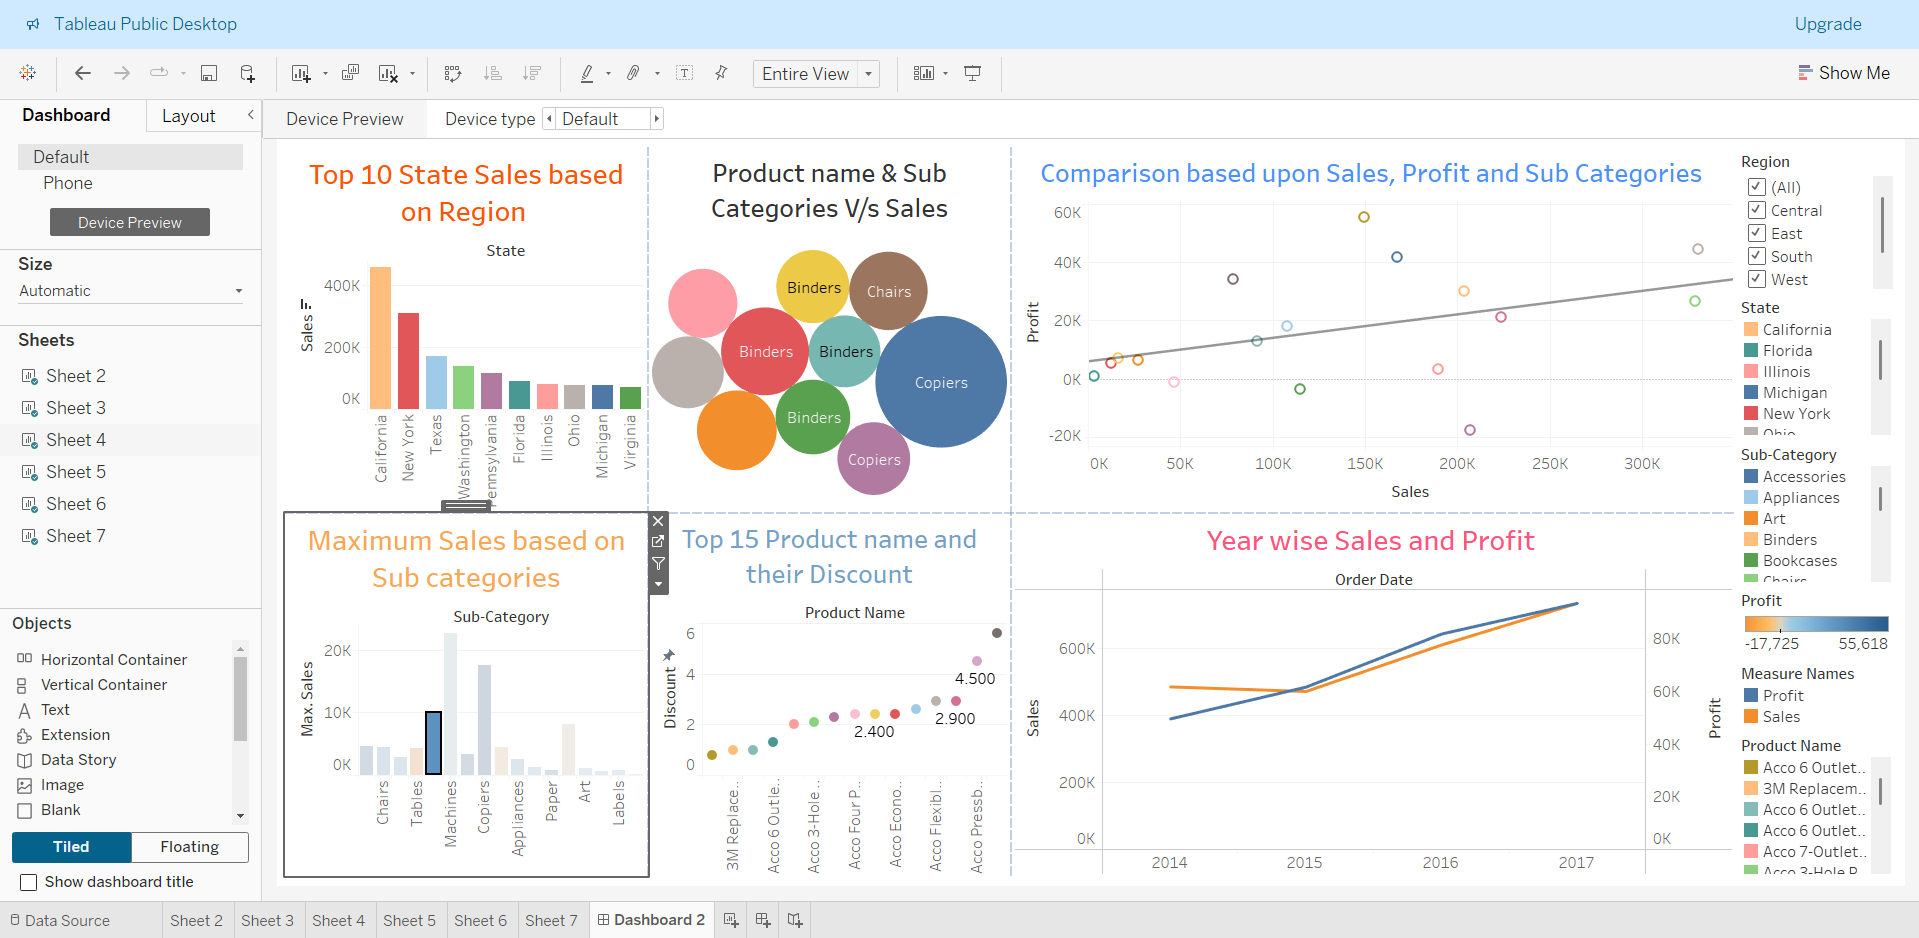

The page's visual inventory and layout, read from the dashboard file:
{"tool":"tableau","page":{"name":"Dashboard 2","canvas":[1000,1000],"units":"permille","ordinal":0},"visuals":[{"type":"worksheet","title":"Sheet 2","mark":"Automatic","rows":["Sales"],"cols":["State"],"box":[4.9,10.7,223,489.3]},{"type":"worksheet","title":"Sheet 6","mark":"Circle","box":[227.9,10.7,223,489.3]},{"type":"worksheet","title":"Sheet 3","mark":"Automatic","rows":["Profit"],"cols":["Sales"],"box":[450.9,10.7,445.9,489.3]},{"type":"filter","title":"Sheet 2","param":"[federated.10h1loo1idg74914uc1as09k2hw2].[none:Region:nk]","box":[896.8,10.7,98.3,196.1]},{"type":"legend","title":"Sheet 2","param":"[federated.10h1loo1idg74914uc1as09k2hw2].[none:State:nk]","box":[896.8,206.8,98.3,196.1]},{"type":"legend","title":"Sheet 3","param":"[federated.10h1loo1idg74914uc1as09k2hw2].[none:Sub-Category:nk]","box":[896.8,402.9,98.3,196.1]},{"type":"worksheet","title":"Sheet 4","mark":"Automatic","rows":["Sales"],"cols":["Sub-Category"],"box":[4.9,500,223,489.3]},{"type":"worksheet","title":"Sheet 7","mark":"Circle","rows":["Discount"],"cols":["Product Name"],"box":[227.9,500,223,489.3]},{"type":"worksheet","title":"Sheet 5","mark":"Automatic","rows":["Sales","Profit"],"cols":["Order Date"],"box":[450.9,500,445.9,489.3]},{"type":"legend","title":"Sheet 4","param":"[federated.10h1loo1idg74914uc1as09k2hw2].[sum:Profit:qk]","box":[896.8,599,98.3,97.7]},{"type":"legend","title":"Sheet 5","param":"[federated.10h1loo1idg74914uc1as09k2hw2].[:Measure Names]","box":[896.8,696.8,98.3,96.4]},{"type":"legend","title":"Sheet 7","param":"[federated.10h1loo1idg74914uc1as09k2hw2].[none:Product Name:nk]","box":[896.8,793.1,98.3,196.1]}]}

Visuals, with their boxes on the dashboard's canvas, which has no fixed pixel size, in thousandths of its width and height (x1, y1, x2, y2). These are canvas units, not pixel positions in the 1919x938 screenshot, which may show the page scaled, cropped or inside an application window:
"Sheet 2" worksheet: bbox(5, 11, 228, 500)
"Sheet 6" worksheet (Circle marks): bbox(228, 11, 451, 500)
"Sheet 3" worksheet: bbox(451, 11, 897, 500)
"Sheet 2" filter: bbox(897, 11, 995, 207)
"Sheet 2" legend: bbox(897, 207, 995, 403)
"Sheet 3" legend: bbox(897, 403, 995, 599)
"Sheet 4" worksheet: bbox(5, 500, 228, 989)
"Sheet 7" worksheet (Circle marks): bbox(228, 500, 451, 989)
"Sheet 5" worksheet: bbox(451, 500, 897, 989)
"Sheet 4" legend: bbox(897, 599, 995, 697)
"Sheet 5" legend: bbox(897, 697, 995, 793)
"Sheet 7" legend: bbox(897, 793, 995, 989)
